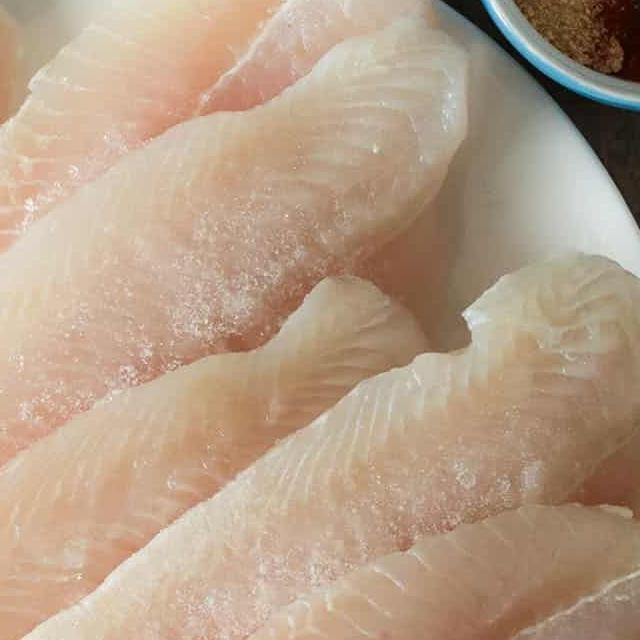fish: (0, 467, 640, 640)
